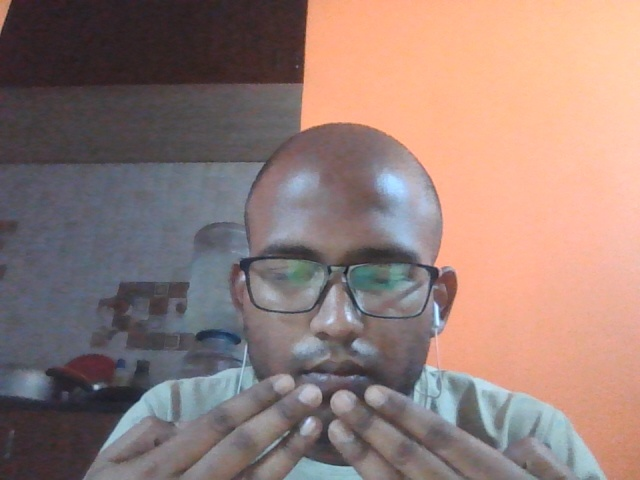thanks: (78, 357, 580, 480)
